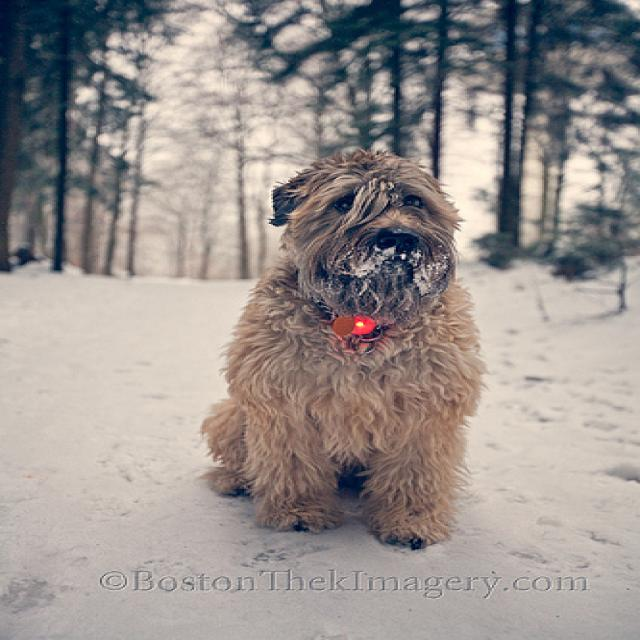dog-wheaten_terrier: (186, 141, 498, 553)
